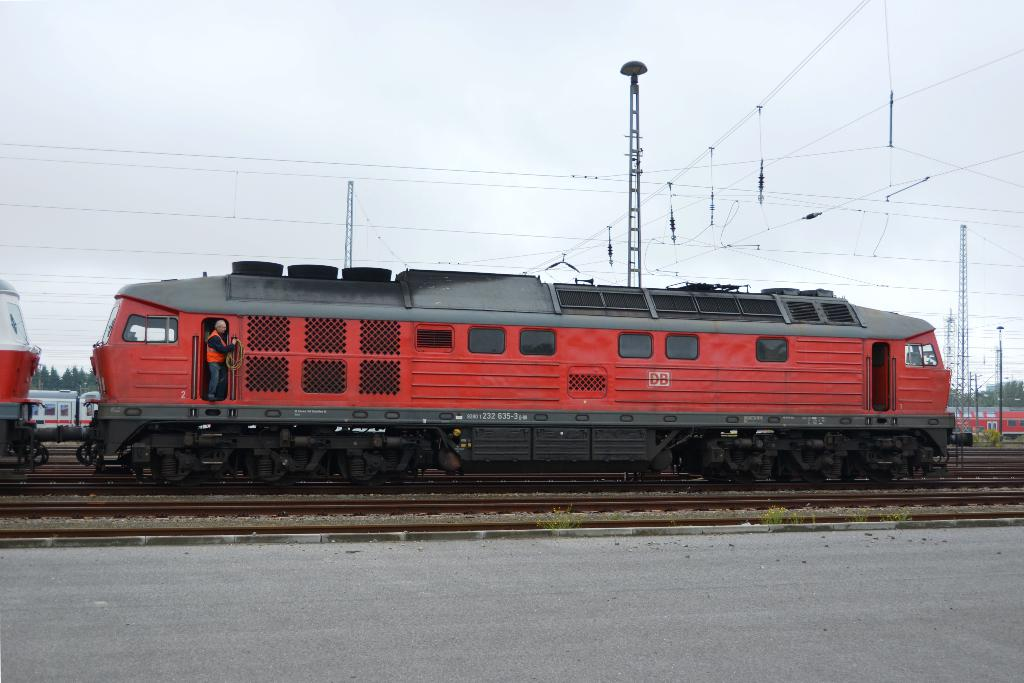train: (0, 263, 969, 480)
